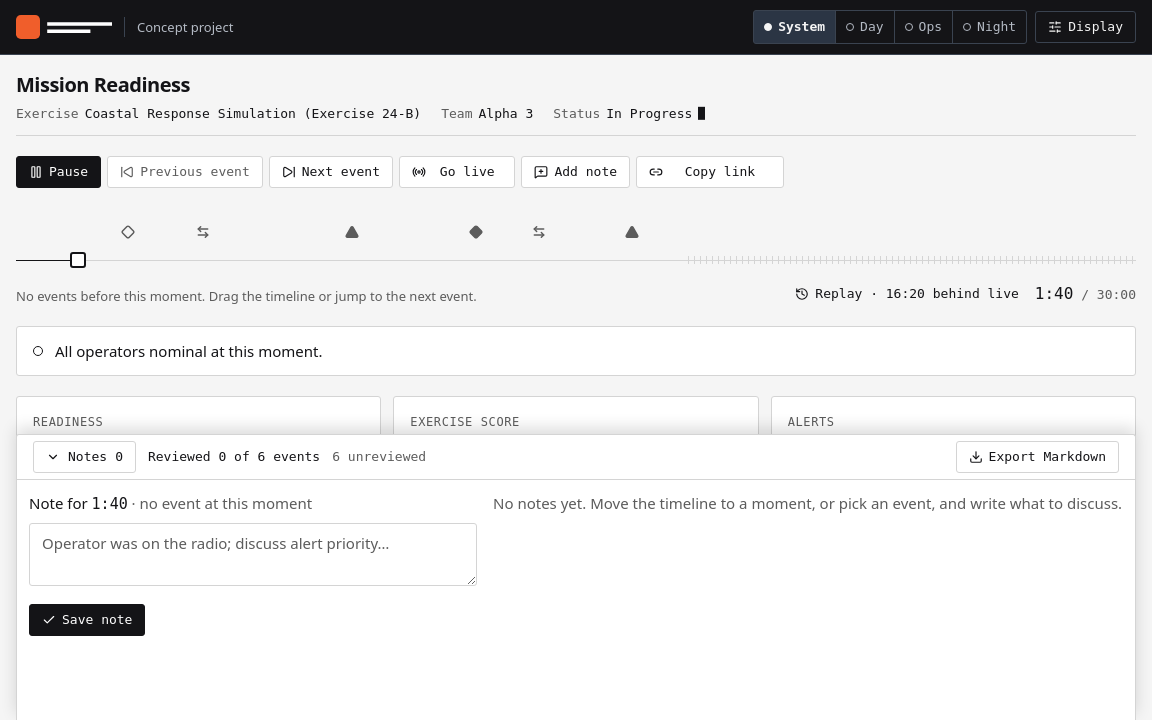
Test: reviewing while the clock is running › keeps a half-written note on its own moment when you scrub elsewhere
Type "writing about 1:40" into the text box named "Note".
click(253, 555); type("writing about 1:40")  # box [29,524,477,586]
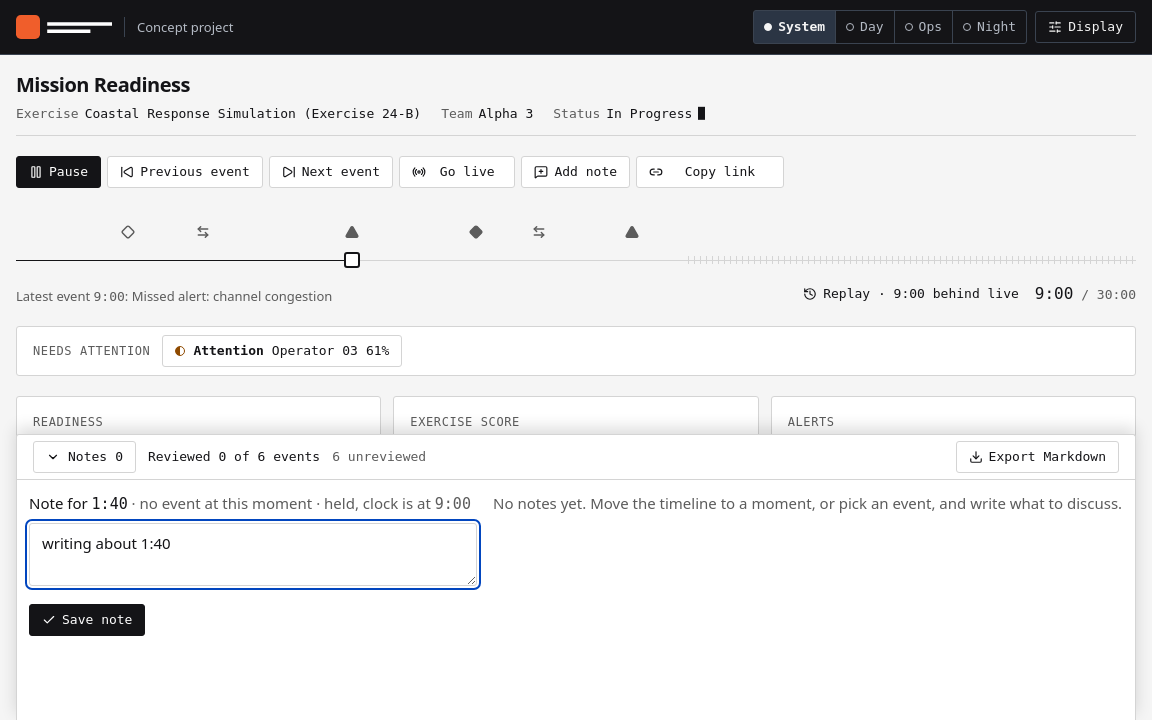
Expected: the text "Note for" shows "1:40", [92,495,128,513]
Click the button "Save note".
click(87, 620)  # box [29,604,146,636]
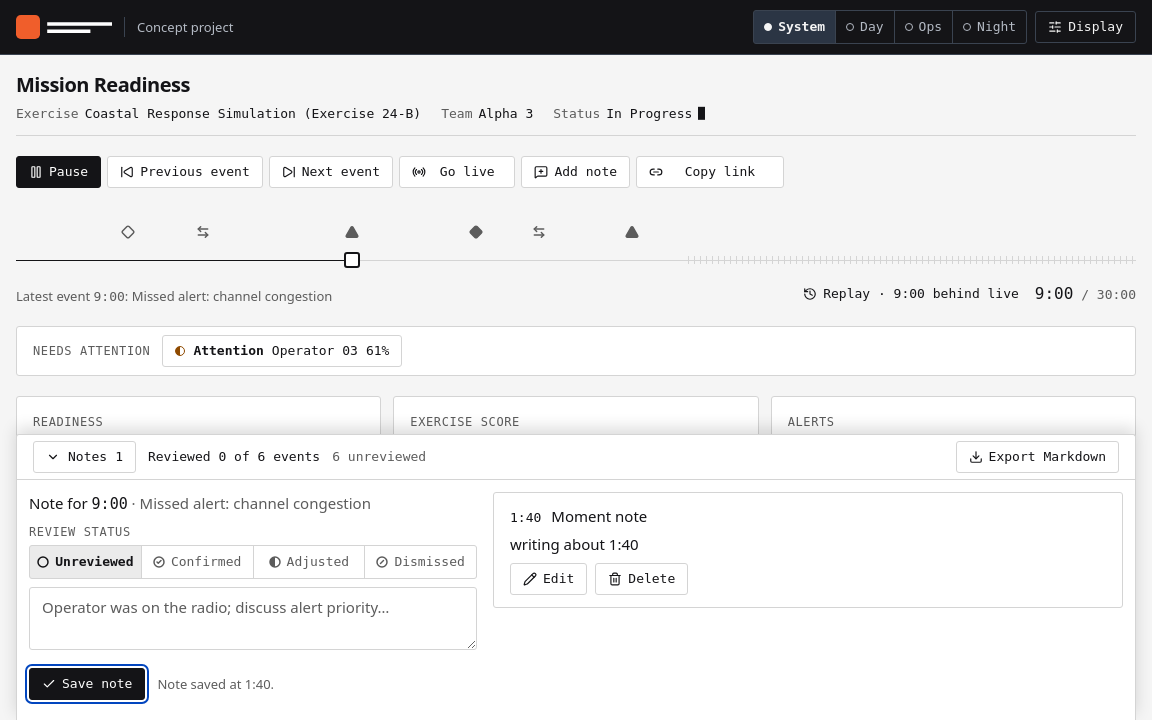
Expected: the button with aria-label "Go to 1:40 on the timeline" is shown, [510,505,647,529]
